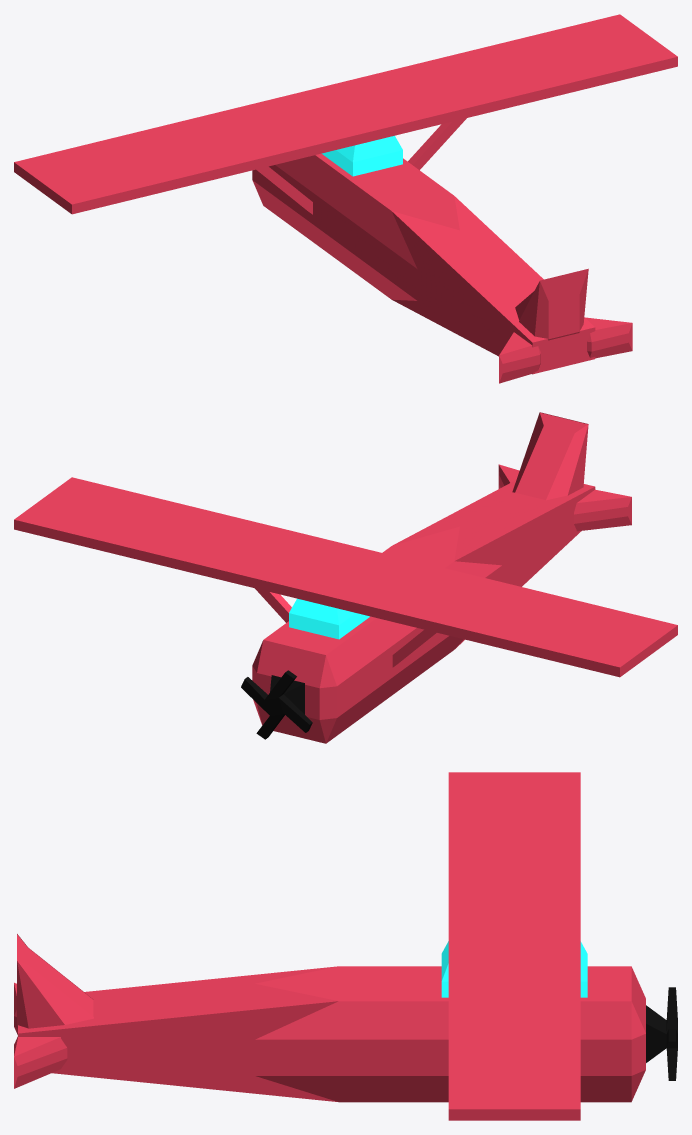
3 renders of one model, top to bottom at view 1: azimuth 30°, elevation 25°; view 2: azimuth 150°, elevation 25°; view 3: azimuth 270°, elevation 25°, orthographic. The views are drawn at different scales.
Visible parts, largest first — view 1: Cube.002; view 2: Cube.002; view 3: Cube.002.
Part boxes in pixels (x1,y1,x2,y2): Cube.002: (14, 14, 677, 383); Cube.002: (14, 412, 677, 743); Cube.002: (14, 772, 677, 1120).
Bounding box in the file's own units: 28.63 × 5.7 × 23.83.
1 material, 1 textured.
